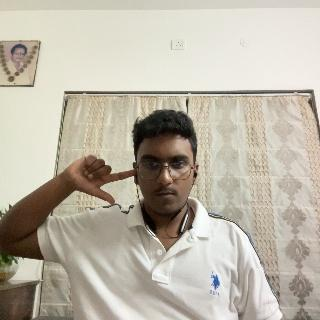Deaf: (67, 154, 135, 202)
Face: (134, 111, 197, 215)
